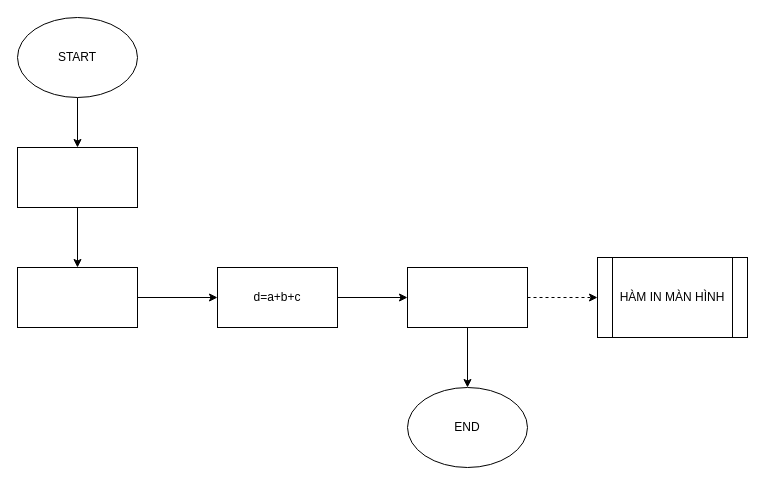
Some shapes in this 765 by 485 pixel diagram are drawn without their labels. The shapes that lost their labels are listed below. From the top down, each one's box as (x1, y1, x2, y2) in pixels, then its label:
(16, 146, 138, 208): KHAI BÁO INT CHO a,b,c,d
(16, 266, 138, 328): INPUT a,b,c
(406, 266, 528, 328): OUTCUT d
